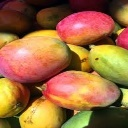mango: (56, 11, 114, 43)
